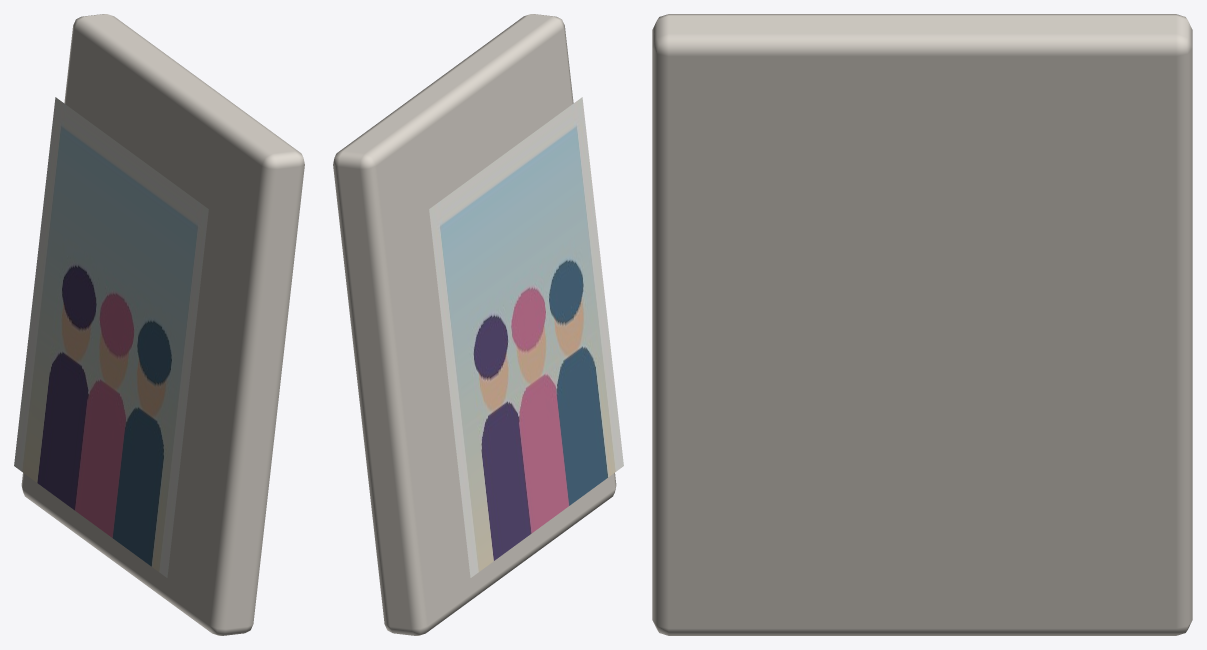
Rendered from photo_frame_bookshelf.fbx.
The picture shows the model from 3 angles, left to right: view 1: azimuth 30°, elevation 25°; view 2: azimuth 150°, elevation 25°; view 3: azimuth 270°, elevation 25°; orthographic projection. The views are drawn at different scales.
Parts seen in each view (by area): view 1: photo_frame_bookshelf; view 2: photo_frame_bookshelf; view 3: photo_frame_bookshelf.
Part boxes in pixels (x1,y1,x2,y2): photo_frame_bookshelf: (14, 14, 304, 635); photo_frame_bookshelf: (333, 14, 623, 635); photo_frame_bookshelf: (652, 14, 1192, 635).
Bounding box in the file's own units: 0.0449 × 0.1697 × 0.13.
